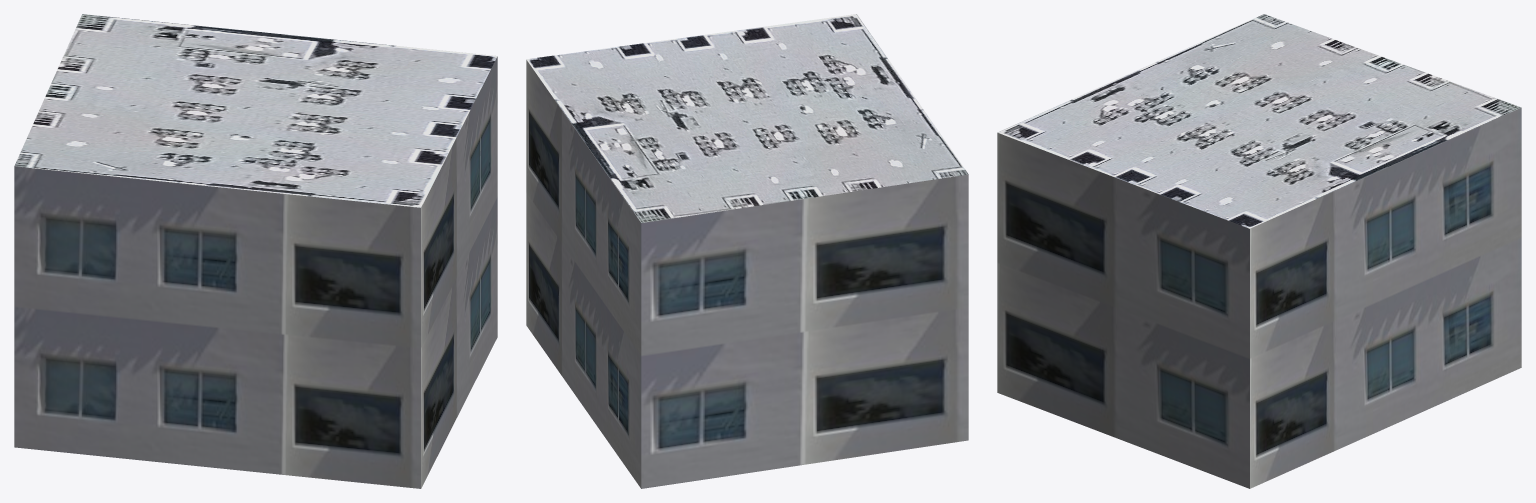
The model's file is ResTex__1697.fbx.
3 renders of one model, left to right at view 1: azimuth 30°, elevation 25°; view 2: azimuth 150°, elevation 25°; view 3: azimuth 270°, elevation 25°, orthographic. The views are drawn at different scales.
Visible parts, largest first — view 1: CityEngineMaterial_10_m, CityEngineMaterial_4_m; view 2: CityEngineMaterial_10_m, CityEngineMaterial_4_m; view 3: CityEngineMaterial_10_m, CityEngineMaterial_4_m.
Part boxes in pixels (box(x1,y1,x2,y2)): CityEngineMaterial_10_m: box(14, 56, 497, 488); CityEngineMaterial_4_m: box(14, 14, 497, 207); CityEngineMaterial_10_m: box(526, 60, 968, 488); CityEngineMaterial_4_m: box(526, 14, 968, 222); CityEngineMaterial_10_m: box(997, 107, 1521, 488); CityEngineMaterial_4_m: box(997, 14, 1521, 228).
Size of the model in its own units: 10.63 by 6 by 10.97.
Materials: 2 (2 with a texture image).
